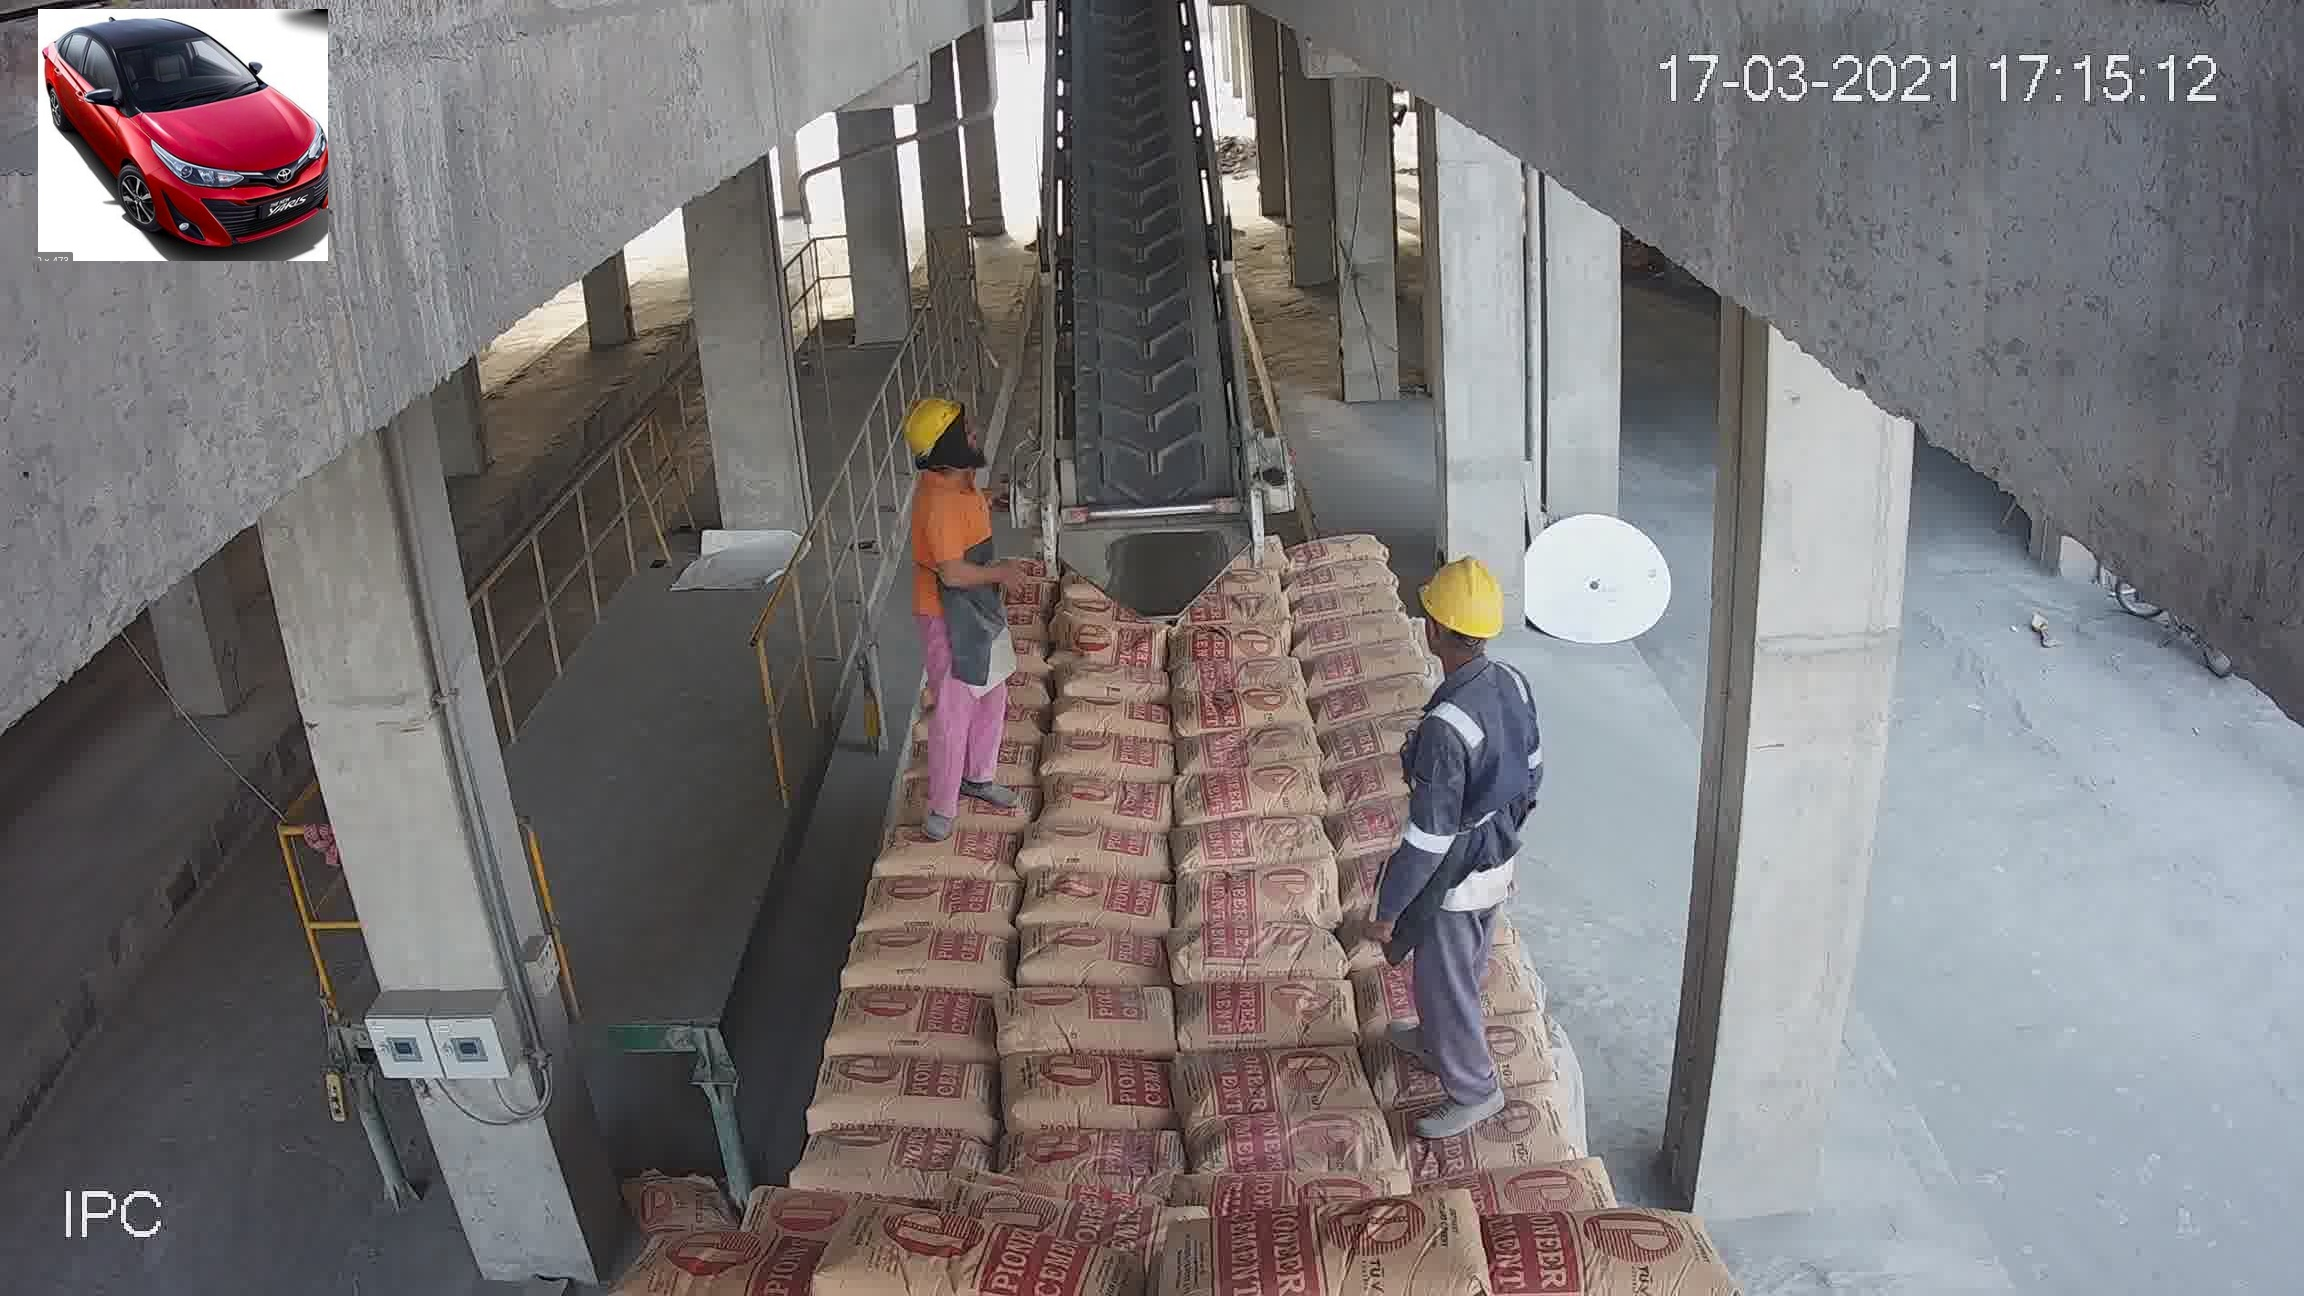bag_h: (1196, 1204, 1510, 1294), (813, 1222, 1114, 1294), (1443, 1209, 1703, 1291), (1393, 1084, 1587, 1184), (801, 1054, 1011, 1138), (1192, 1044, 1369, 1131), (1203, 1112, 1394, 1190), (1173, 976, 1366, 1052), (1006, 1048, 1187, 1128), (635, 1226, 843, 1296), (1000, 987, 1187, 1063), (826, 980, 1003, 1059), (855, 870, 1029, 946), (786, 1127, 999, 1188), (1000, 1122, 1192, 1188), (1434, 1161, 1612, 1226), (839, 927, 1013, 994), (1177, 862, 1337, 934), (1184, 927, 1353, 991), (1184, 758, 1332, 826), (1180, 812, 1332, 878), (1025, 817, 1168, 885), (1022, 873, 1180, 932), (1013, 934, 1174, 991), (881, 812, 1036, 870), (1044, 772, 1184, 836), (870, 829, 1025, 885), (1169, 673, 1304, 734), (1302, 628, 1415, 685), (1187, 725, 1320, 772), (1048, 741, 1176, 786), (1301, 604, 1402, 658), (1179, 612, 1291, 660), (1055, 699, 1165, 745), (1321, 673, 1427, 718), (1298, 582, 1402, 625), (1287, 557, 1397, 597), (1290, 525, 1389, 565)
belt: (1052, 36, 1234, 582)
